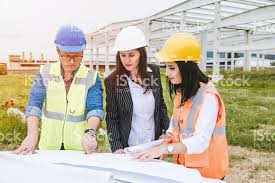helmet: (163, 34, 201, 63), (53, 24, 87, 54), (115, 26, 146, 49)
vest: (42, 69, 96, 154), (175, 90, 224, 177)
